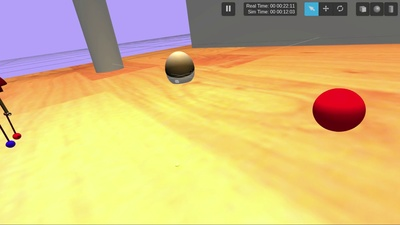mira_robot: (166, 51, 195, 84)
